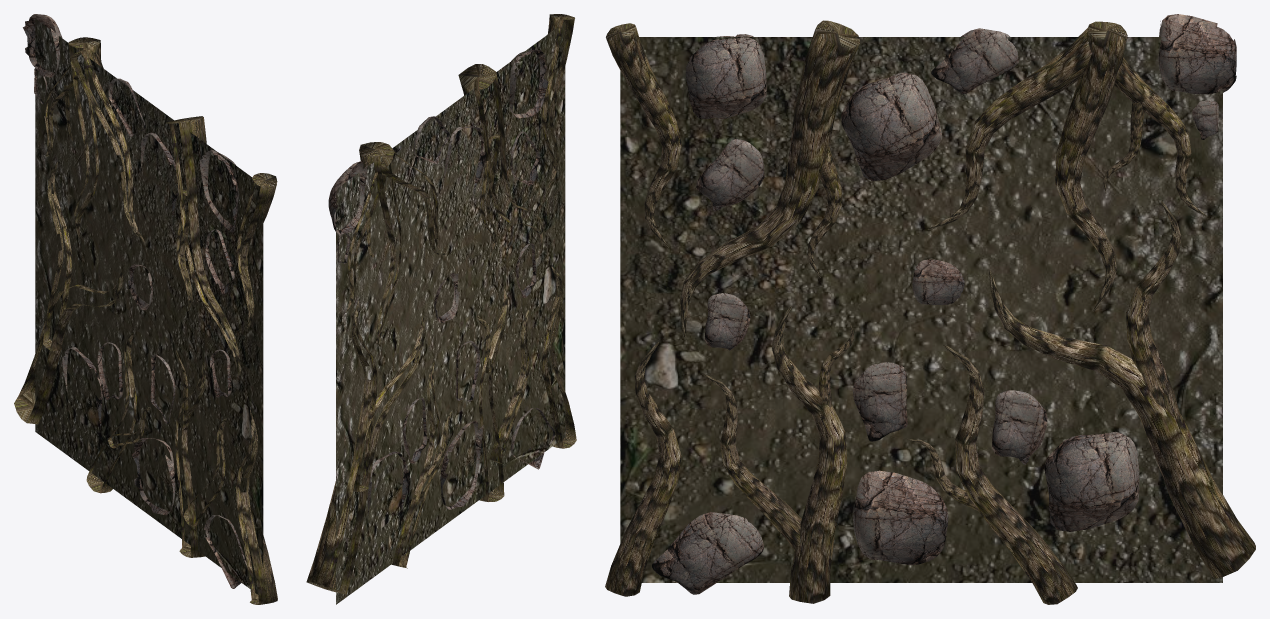
File: Wall_3.fbx
3 renders of one model, left to right at view 1: azimuth 30°, elevation 25°; view 2: azimuth 150°, elevation 25°; view 3: azimuth 270°, elevation 25°, orthographic. The views are drawn at different scales.
Parts seen in each view (by area): view 1: Wall; view 2: Wall; view 3: Wall.
Part boxes in pixels (x1,y1,x2,y2): Wall: (14, 14, 277, 604); Wall: (306, 14, 576, 604); Wall: (605, 14, 1255, 604).
Bounding box in the file's own units: 115 × 1300 × 1318.
3 materials, 3 textured.
